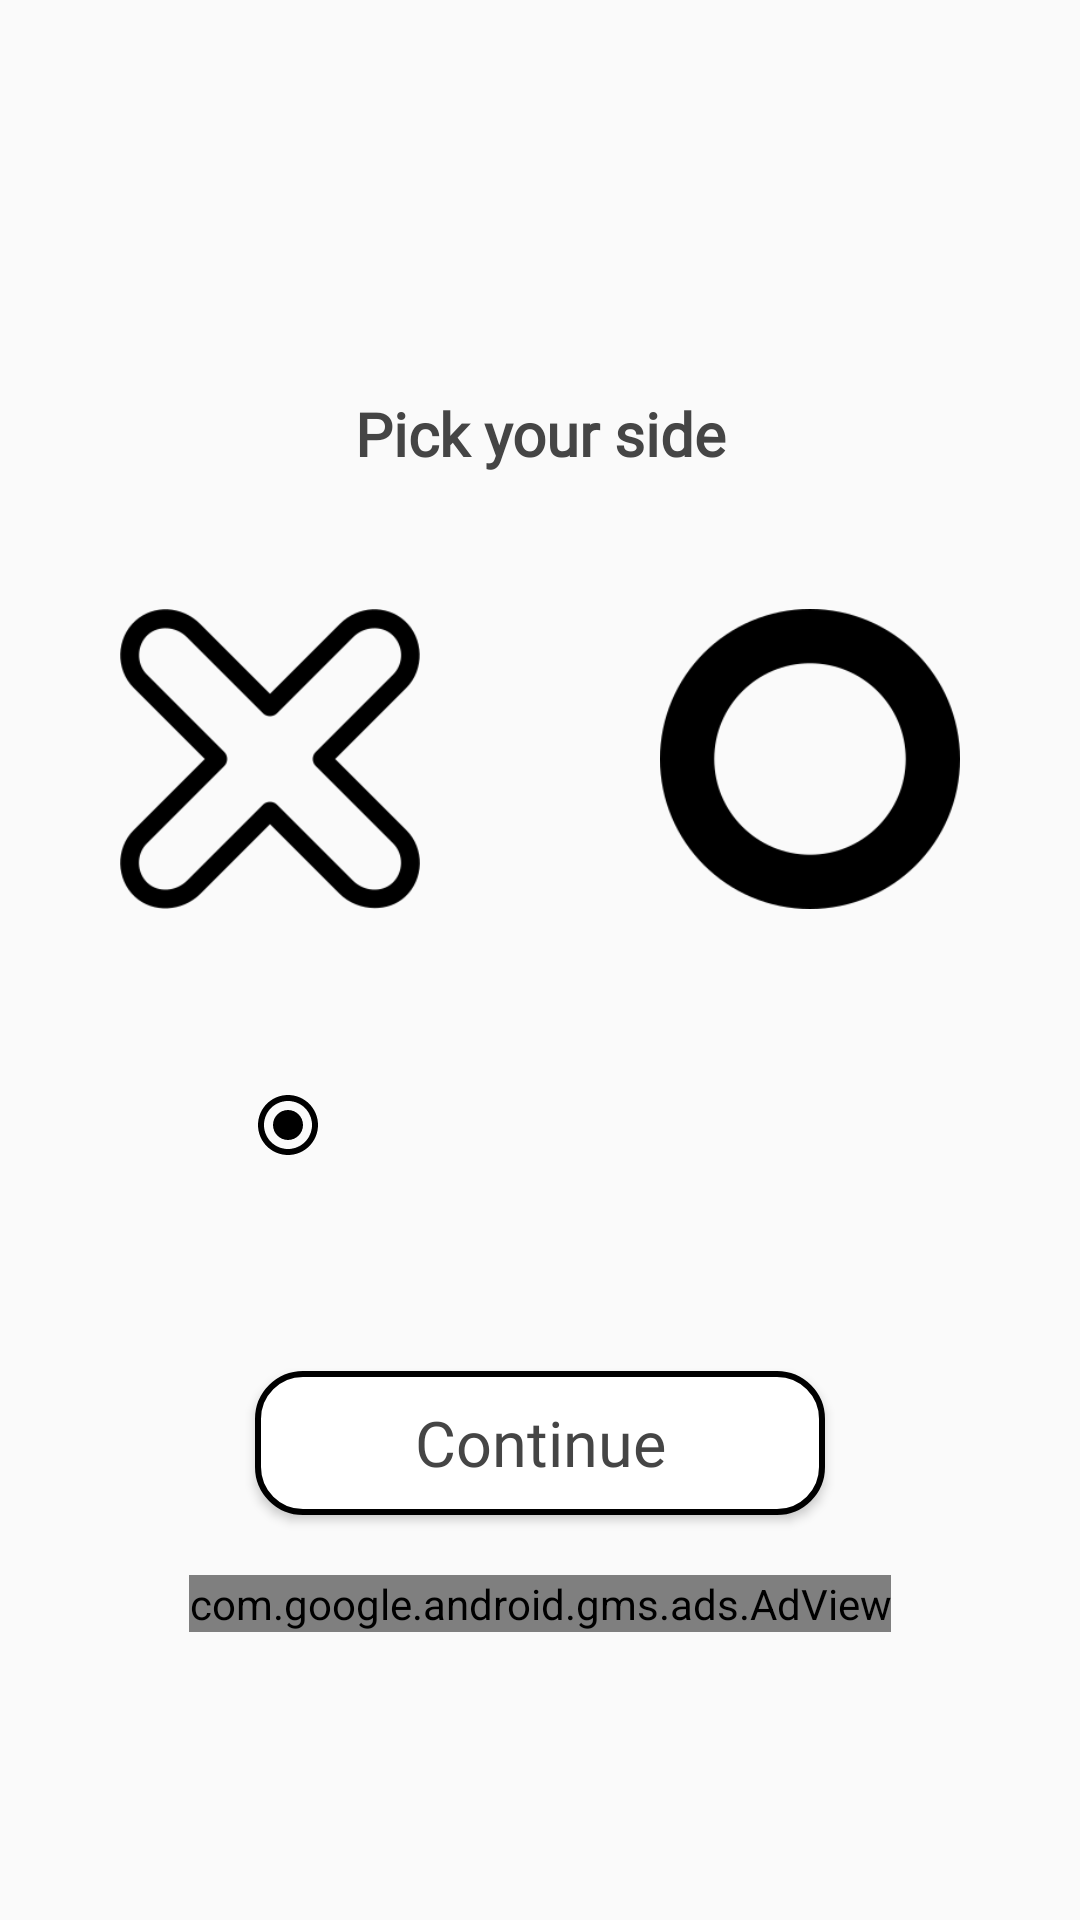

Screen size 1080 × 1920. Icon name, then its center in pixels as [x,y]:
circle: [810,759]
cross: [270,759]
radio checked: [288,1125]
